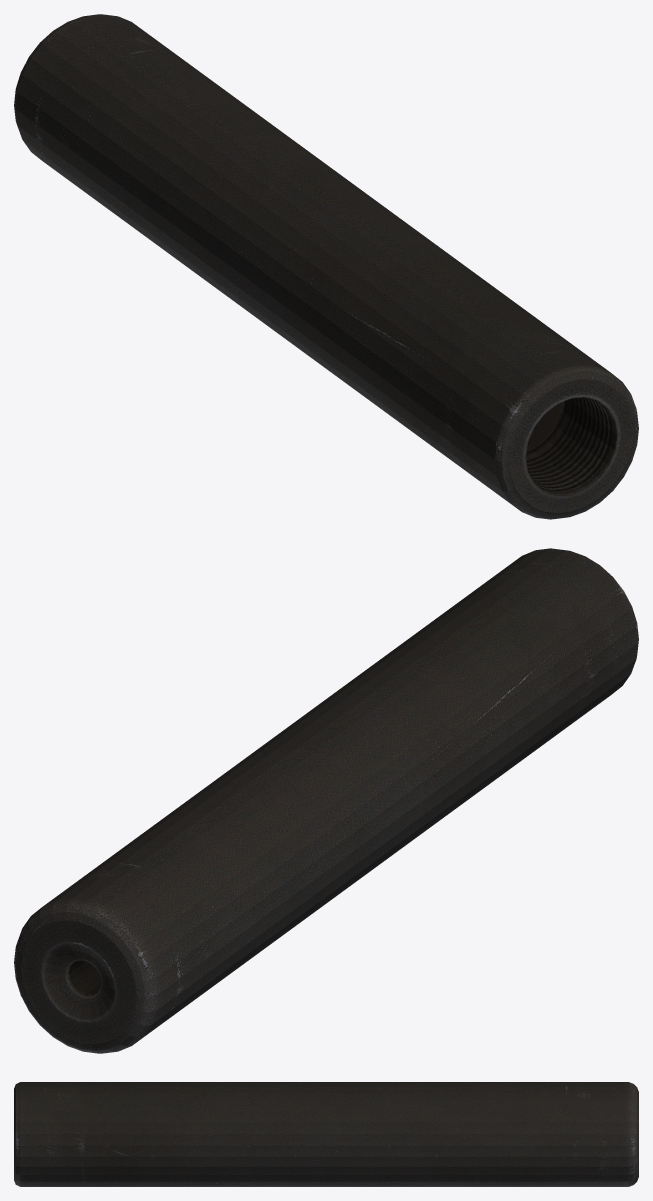
The picture shows the model from 3 angles, top to bottom: view 1: azimuth 30°, elevation 25°; view 2: azimuth 150°, elevation 25°; view 3: azimuth 270°, elevation 25°; orthographic projection. The views are drawn at different scales.
Parts seen in each view (by area): view 1: TW_5c4eecc32e221602b412b440_PZ_Import; view 2: TW_5c4eecc32e221602b412b440_PZ_Import; view 3: TW_5c4eecc32e221602b412b440_PZ_Import.
Part boxes in pixels (<box>): TW_5c4eecc32e221602b412b440_PZ_Import: <box>14,14,638,519</box>; TW_5c4eecc32e221602b412b440_PZ_Import: <box>14,548,638,1053</box>; TW_5c4eecc32e221602b412b440_PZ_Import: <box>14,1082,638,1186</box>.
Size of the model in its own units: 0.0246 by 0.1466 by 0.0246.
Materials: 1 (1 with a texture image).
